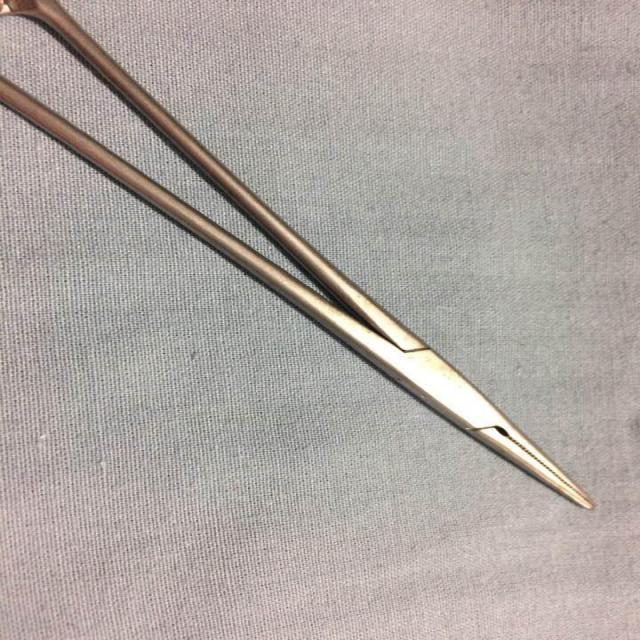Hemostat: (6, 3, 600, 516)
